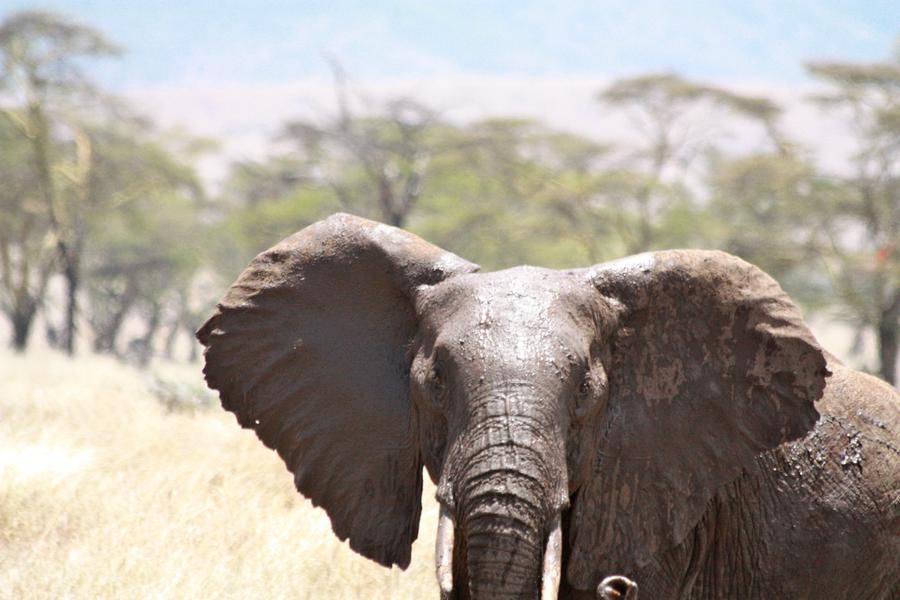elephant: (188, 193, 829, 593)
